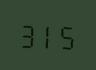five: (57, 20, 75, 50)
one: (38, 19, 56, 50)
three: (18, 18, 36, 49)
